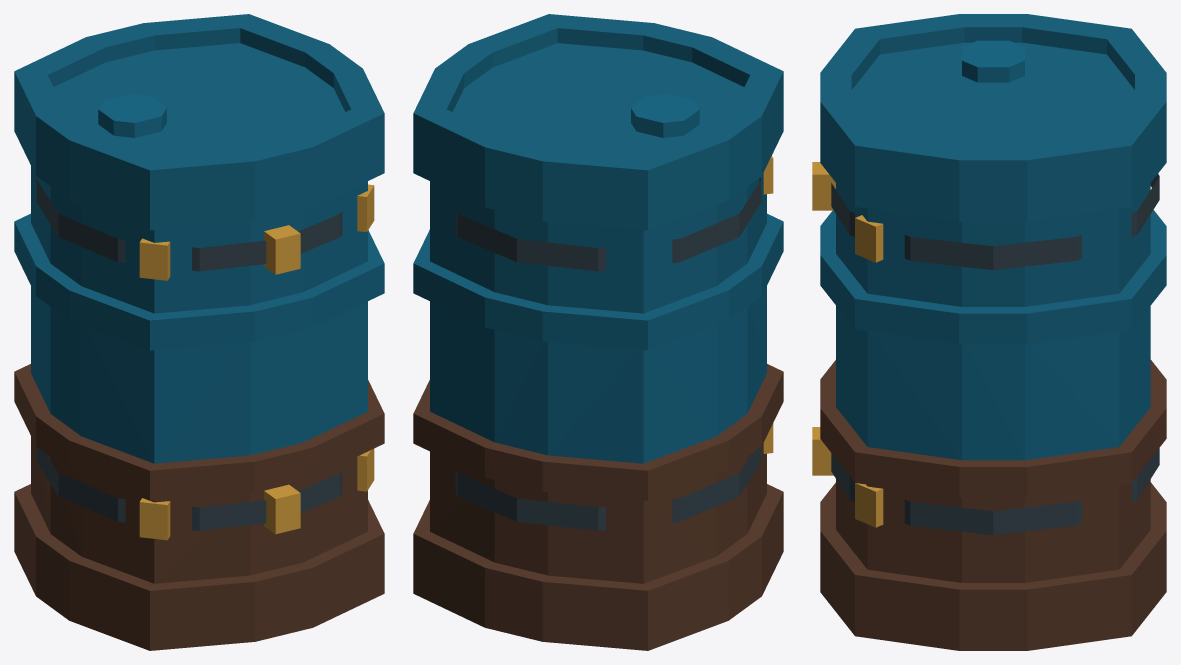
Rendered from barrel-sky.glb.
3 renders of one model, left to right at view 1: azimuth 30°, elevation 25°; view 2: azimuth 150°, elevation 25°; view 3: azimuth 270°, elevation 25°, orthographic. The views are drawn at different scales.
Parts seen in each view (by area): view 1: barrel-sky; view 2: barrel-sky; view 3: barrel-sky.
Part boxes in pixels (x1=…): barrel-sky: x1=14, y1=14, x2=384, y2=650; barrel-sky: x1=413, y1=14, x2=783, y2=650; barrel-sky: x1=812, y1=14, x2=1166, y2=650.
Size of the model in its own units: 0.55 by 0.86 by 0.5625.
